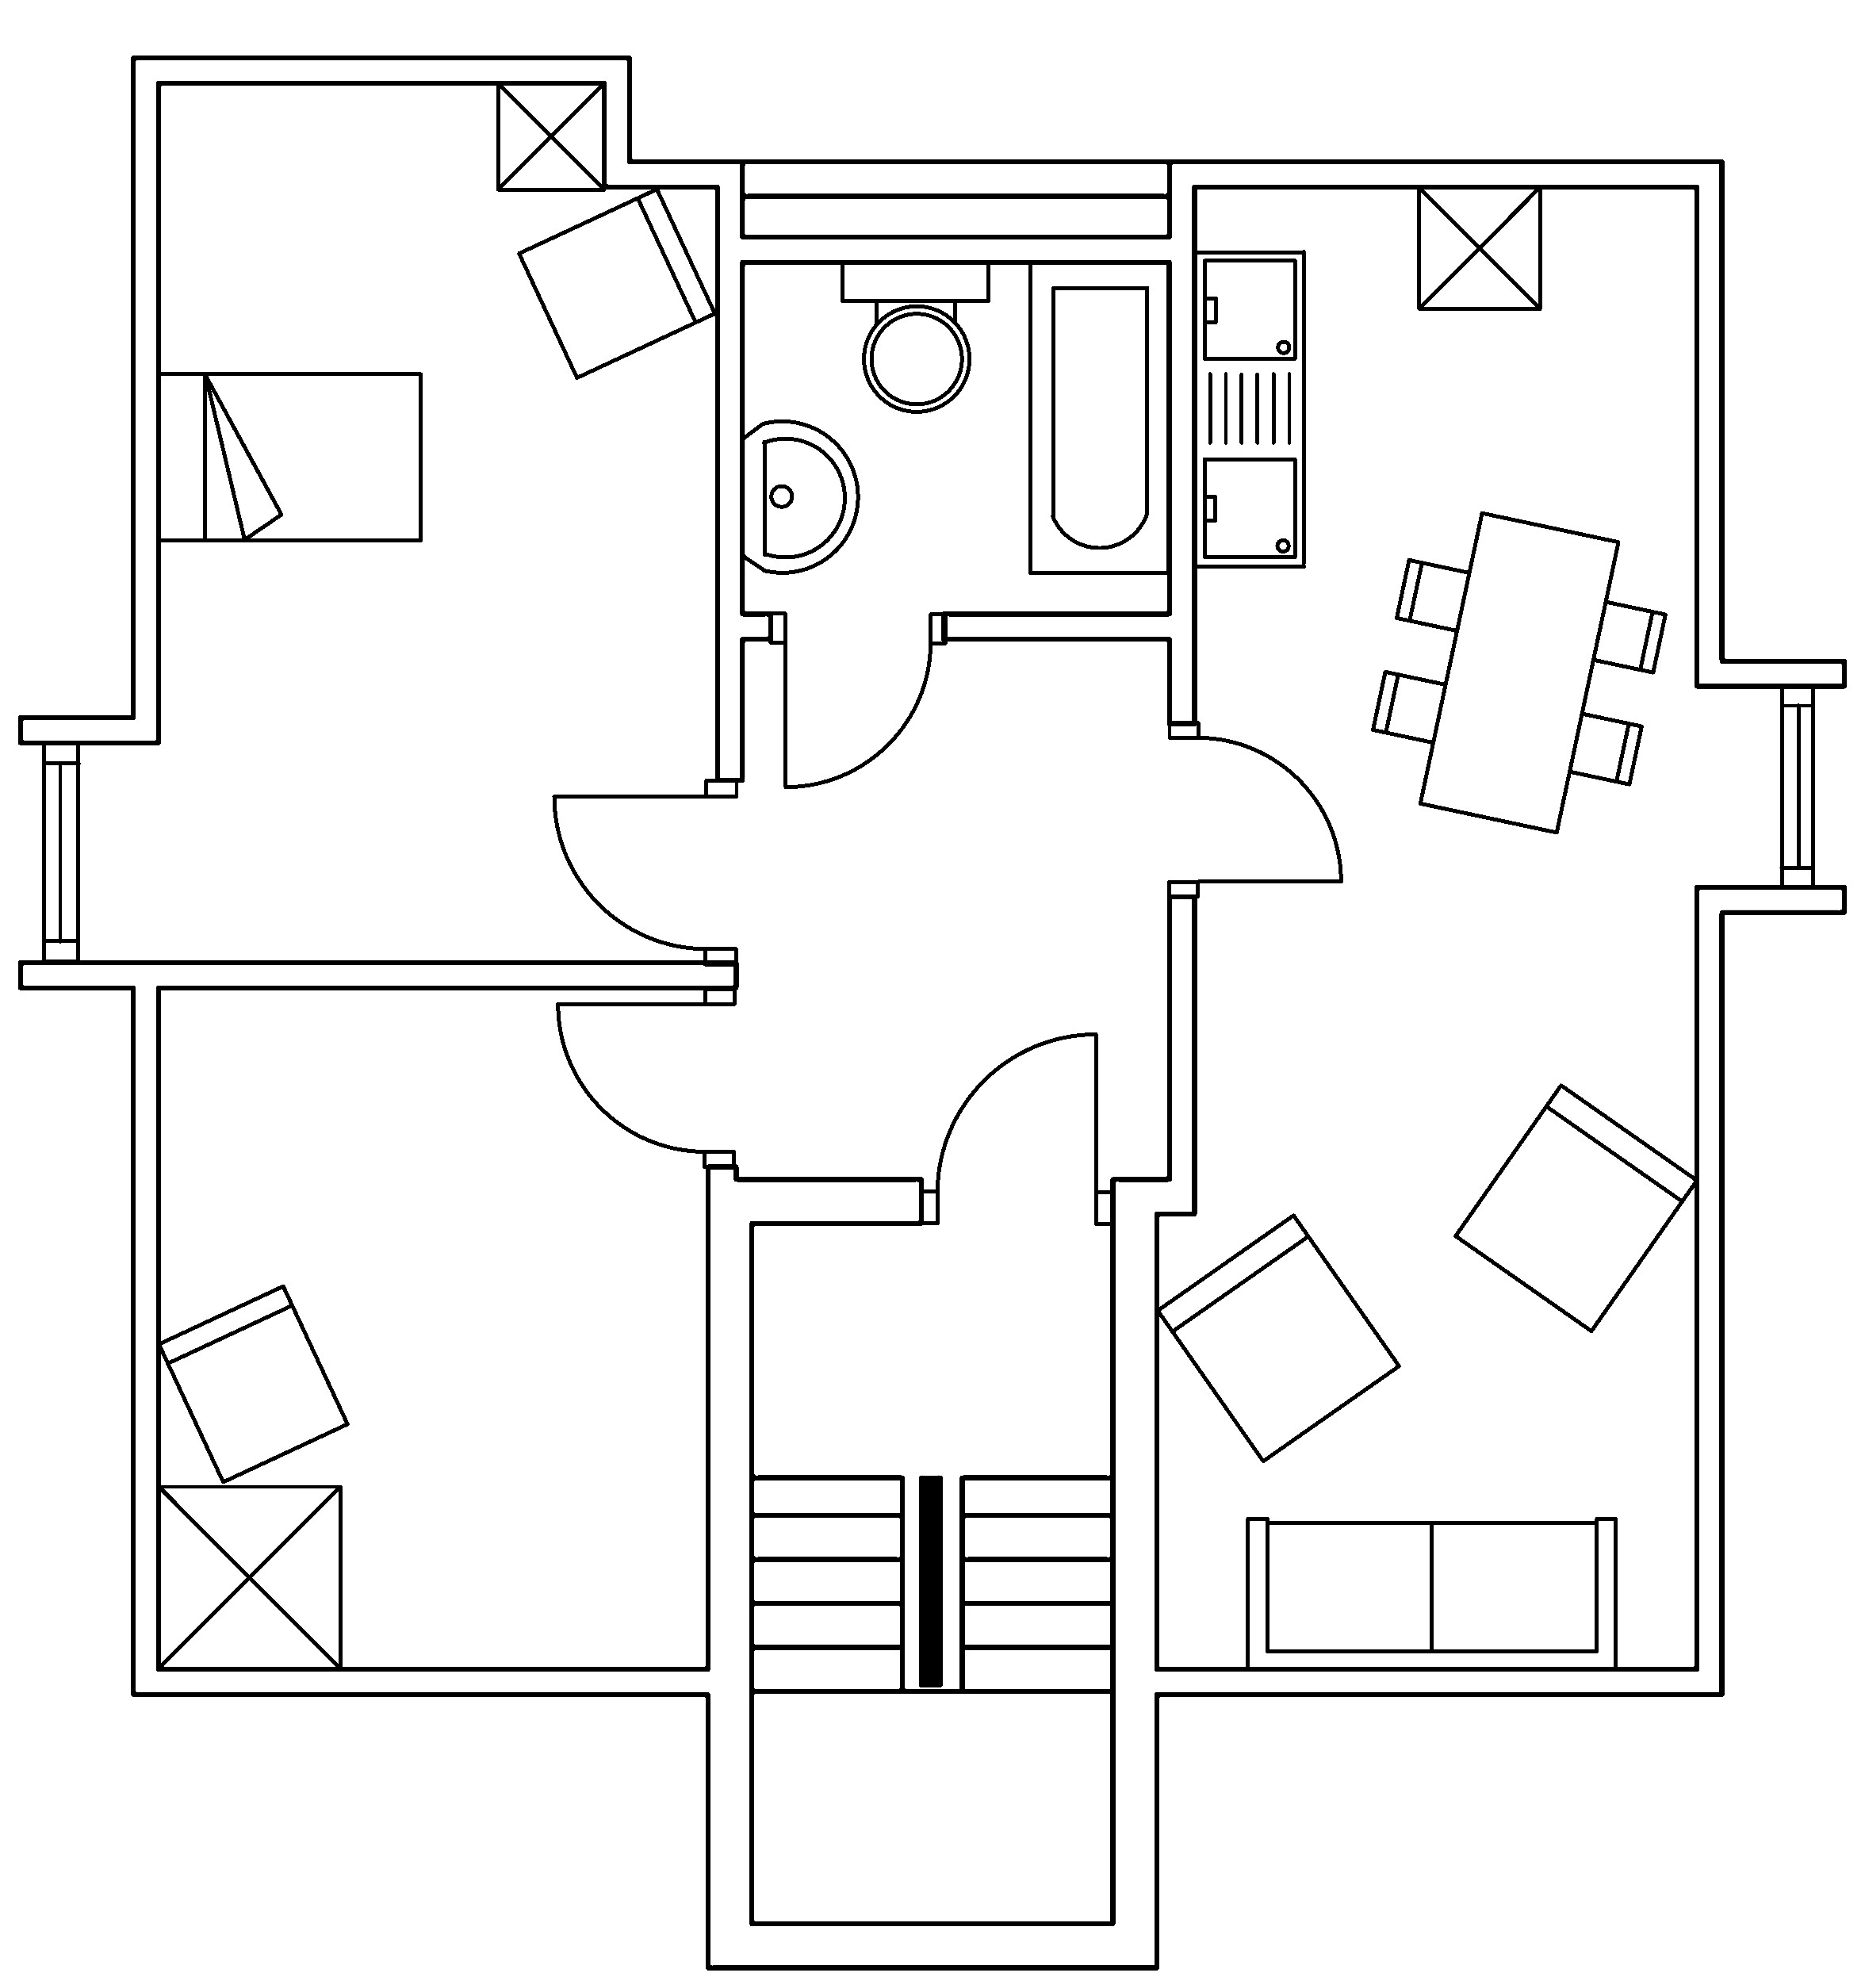bed: (154, 370, 424, 543)
coffee_table: (154, 1481, 342, 1671), (1416, 182, 1542, 310), (494, 79, 606, 191)
dining_table: (1369, 508, 1669, 834)
large_sink: (840, 258, 990, 412)
large_sofa: (1245, 1515, 1618, 1672)
small_sink: (740, 419, 859, 573)
small_sofa: (1153, 1211, 1401, 1464), (1451, 1082, 1698, 1332), (156, 1282, 351, 1485), (515, 186, 717, 380)
tub: (1027, 258, 1171, 575)
twin_sink: (1192, 247, 1308, 570)
